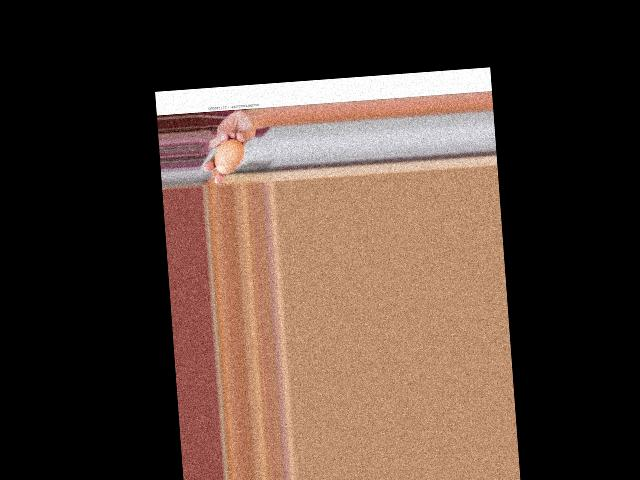egg: (212, 138, 244, 174)
